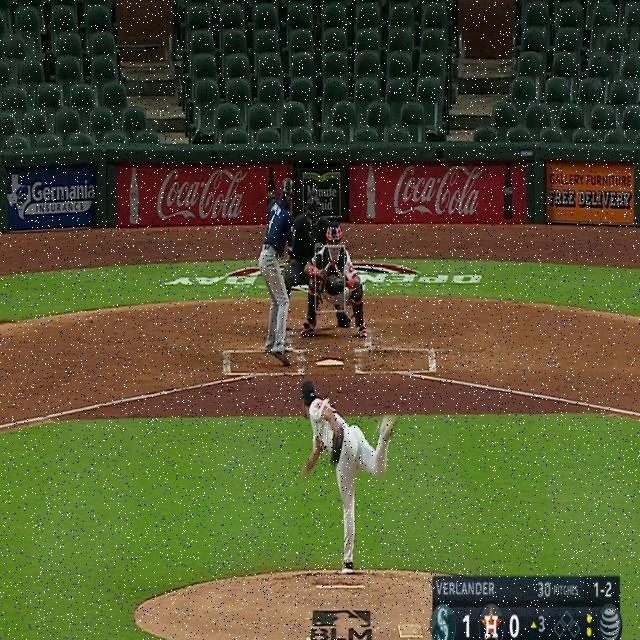baseball: (344, 287, 349, 296)
